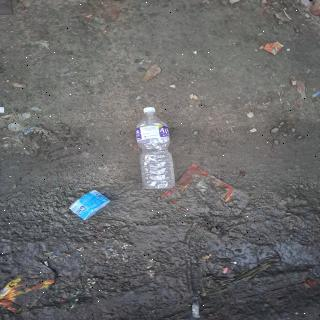Plastic-bottle: (132, 107, 184, 195)
